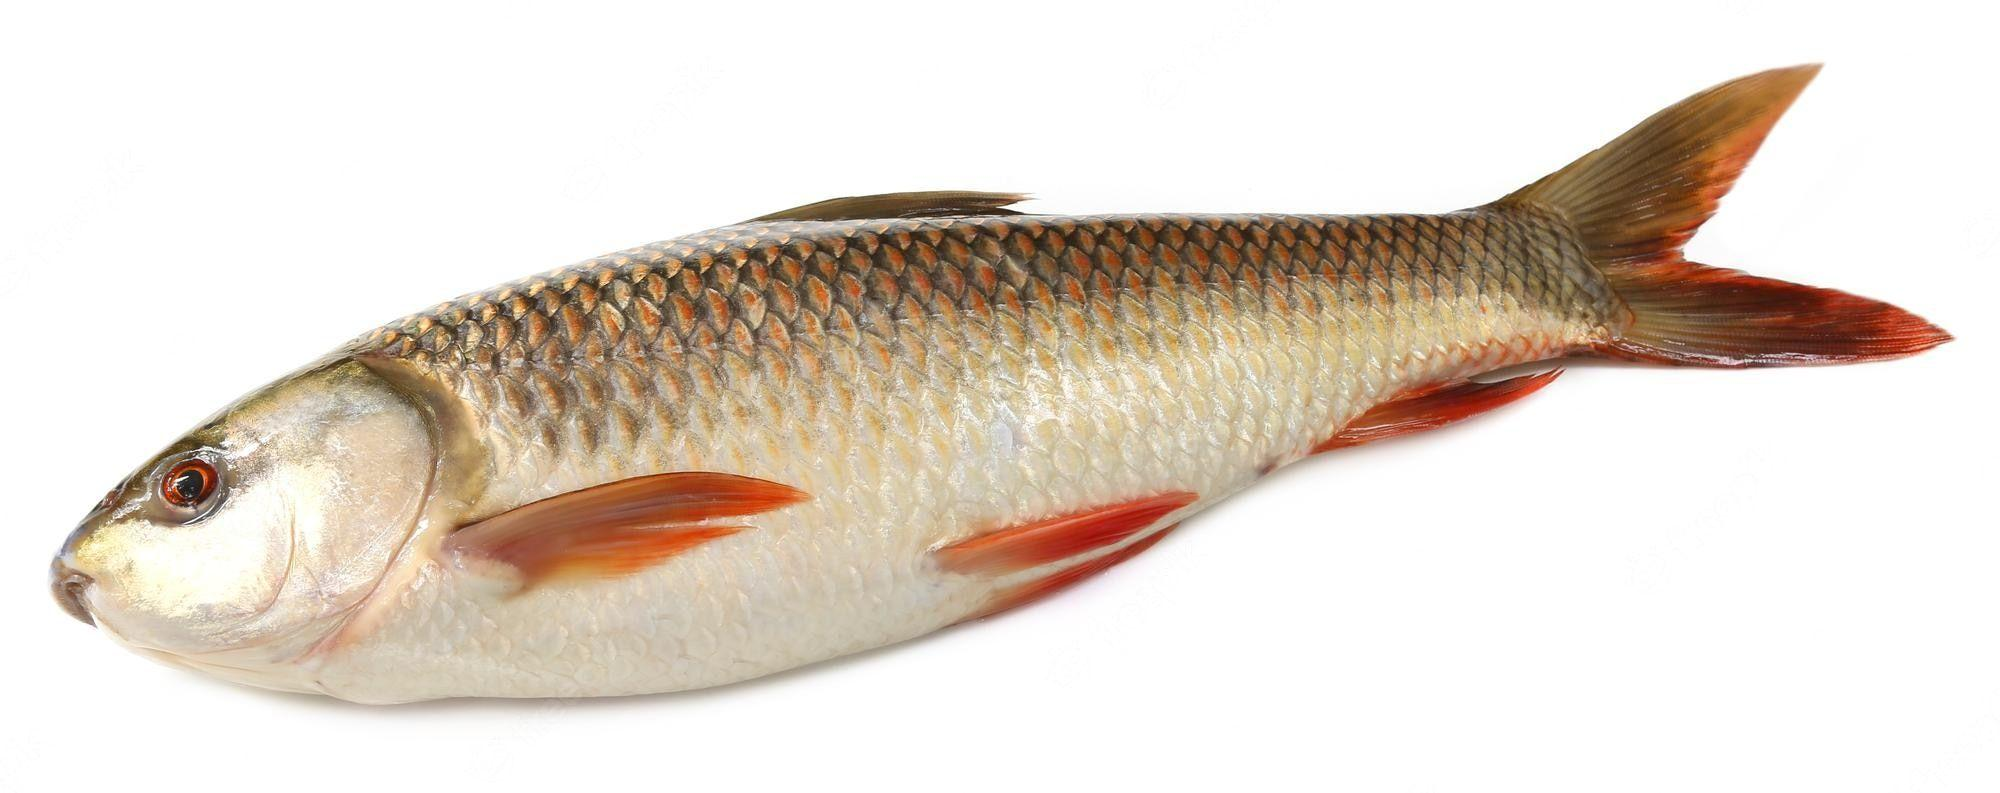Indian Carp: (46, 60, 1963, 700)
